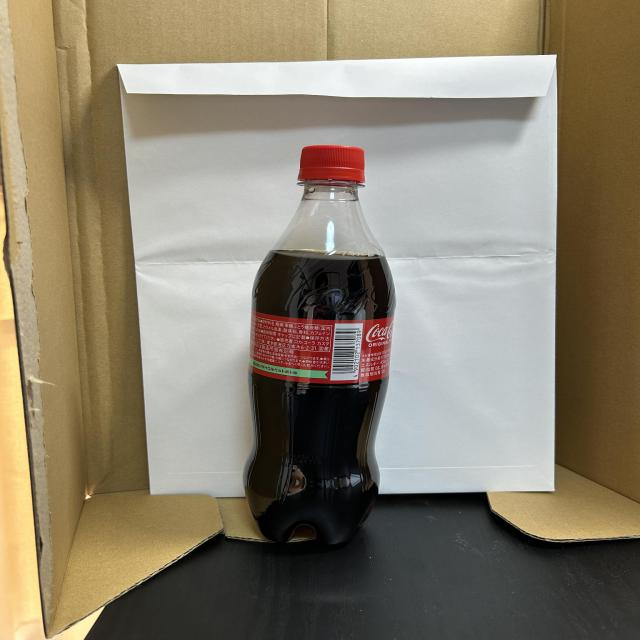high: (243, 145, 395, 544)
